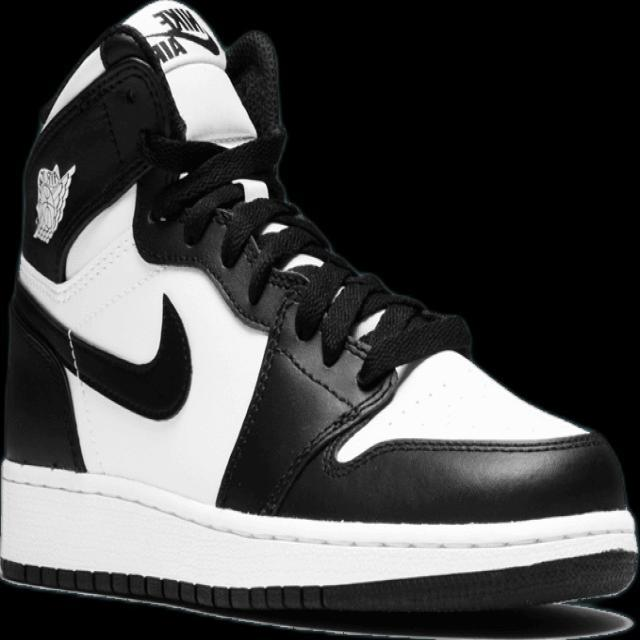J1_InsoleChar: (0, 0, 638, 631)
J1_ShoeLogo: (144, 3, 220, 63), (30, 161, 76, 244)
J1_StitchPattern: (0, 460, 638, 614), (138, 129, 473, 391), (213, 177, 405, 513), (0, 549, 637, 615), (226, 197, 376, 363), (259, 368, 400, 514), (1, 557, 324, 612), (322, 427, 605, 470), (273, 248, 378, 363), (345, 296, 474, 389), (221, 194, 334, 298), (273, 341, 355, 410), (249, 214, 326, 267), (341, 331, 373, 363)
